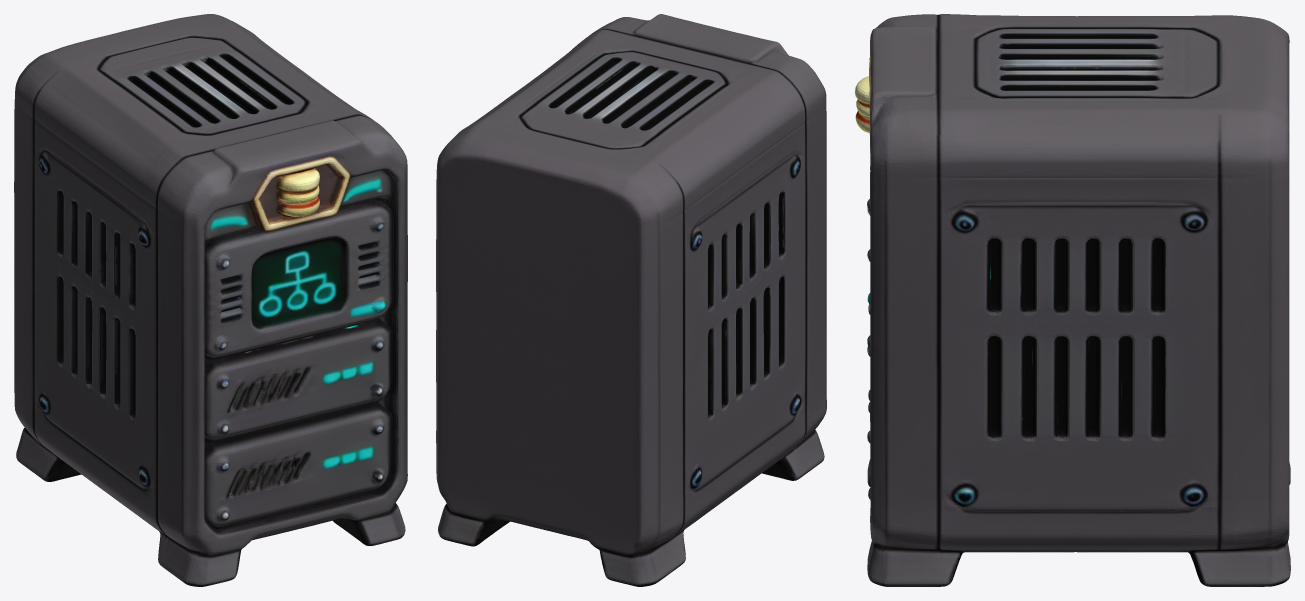
File: torre-backend.glb
3 renders of one model, left to right at view 1: azimuth 30°, elevation 25°; view 2: azimuth 150°, elevation 25°; view 3: azimuth 270°, elevation 25°, orthographic. The views are drawn at different scales.
Parts seen in each view (by area): view 1: geometry_0; view 2: geometry_0; view 3: geometry_0.
Part boxes in pixels (box(x1,y1,x2,y2)): geometry_0: box(14, 14, 407, 586); geometry_0: box(436, 14, 826, 586); geometry_0: box(855, 14, 1290, 586).
Size of the model in its own units: 0.6092 by 1 by 0.8423.
Materials: 1 (1 with a texture image).
